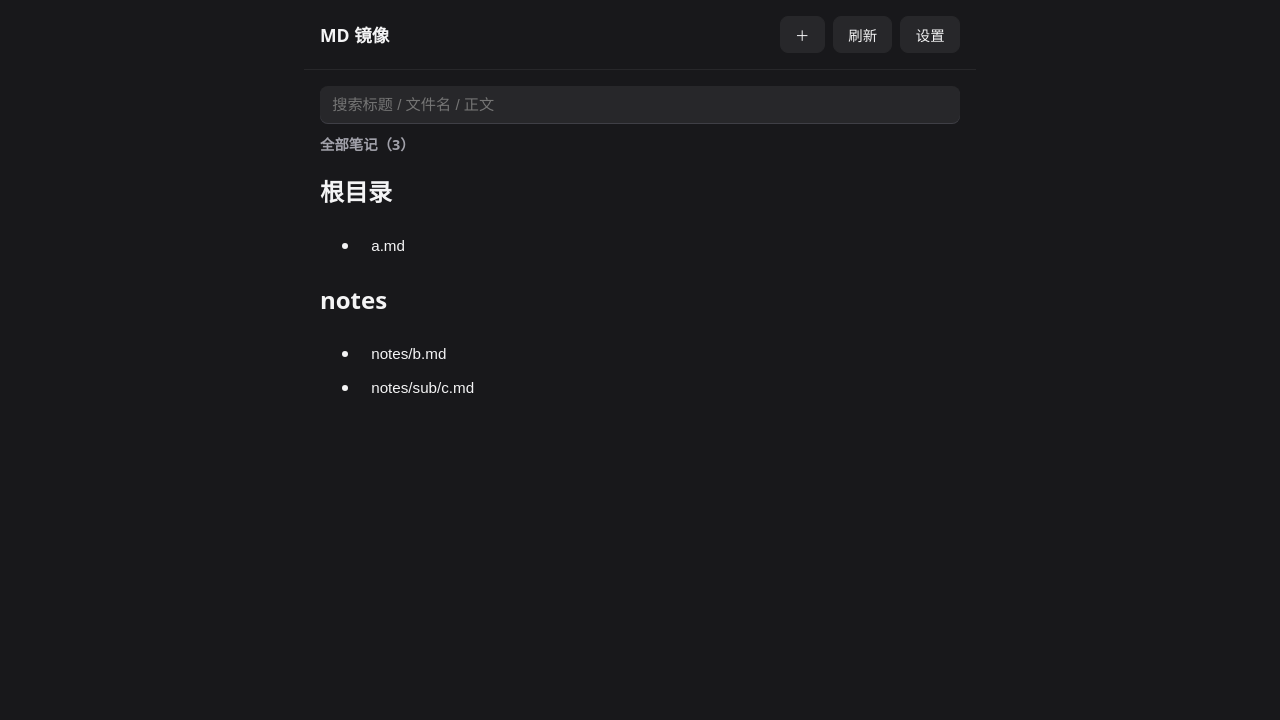
Scenario: 27 · 新建笔记（App 集成） › 目录下拉：根目录固定首项，包含镜像中的全部目录且默认根目录
The width and height of the screenshot is (1280, 720).
Click the button "＋" at (802, 35), box [780, 16, 825, 53]
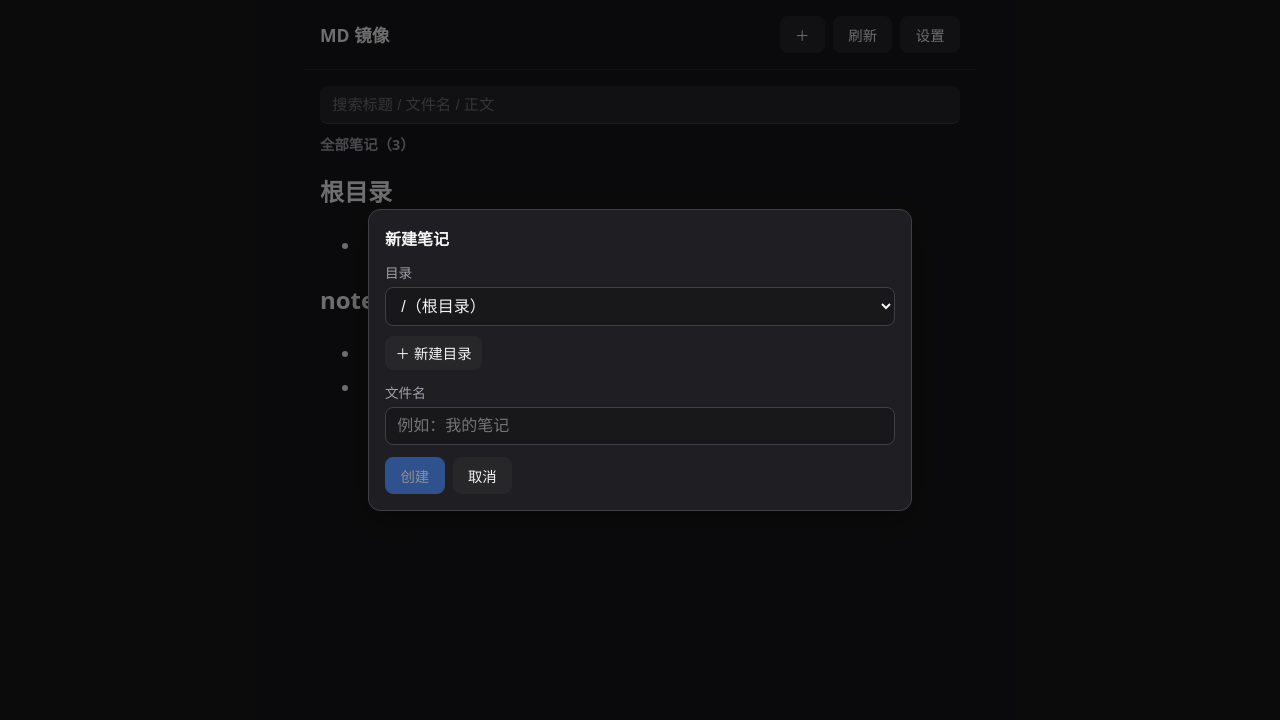
Check: the dropdown with class "new-note__select" shows "/（根目录）", box [385, 287, 895, 326]
